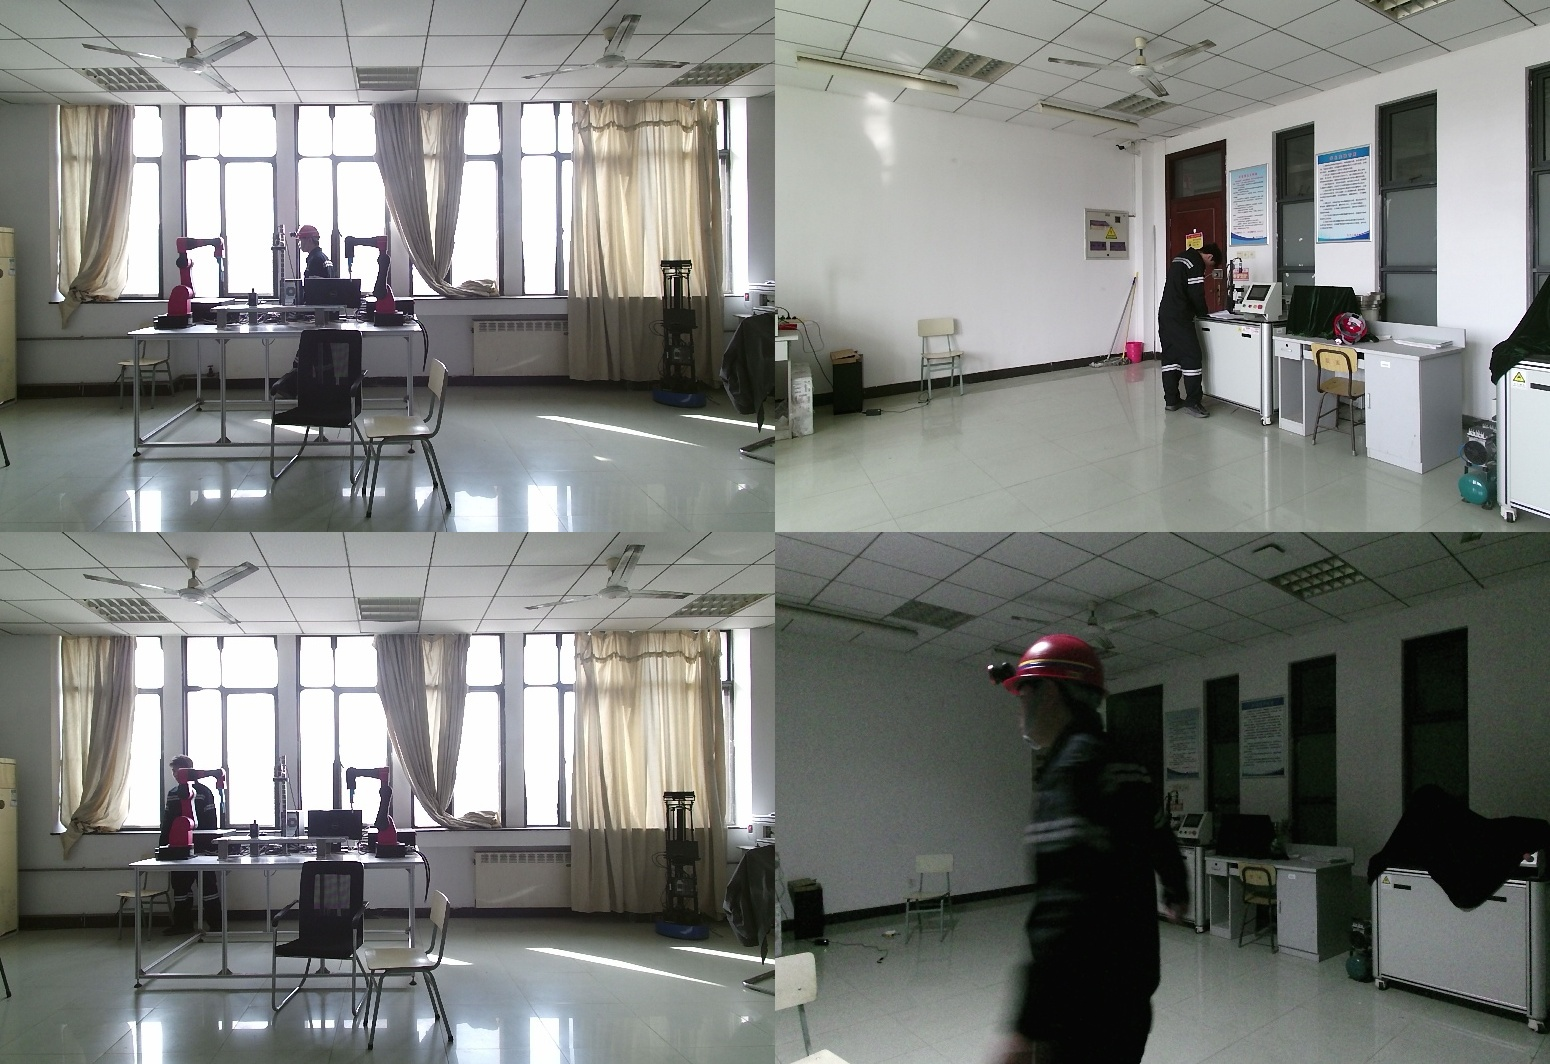person: (991, 633, 1219, 1064), (157, 755, 226, 943), (274, 224, 336, 398), (1159, 245, 1219, 417)
